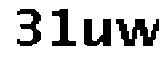1: (47, 4, 78, 55)
3: (9, 6, 44, 51)
u: (81, 12, 116, 51)
w: (114, 12, 160, 53)
